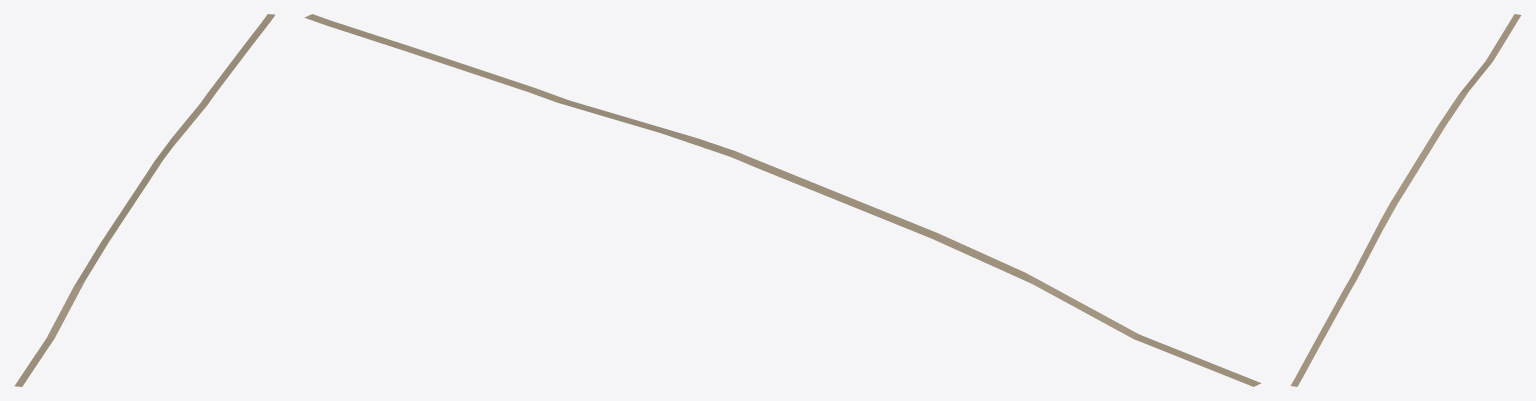
File: farm_-12_-19_track.glb
The picture shows the model from 3 angles, left to right: view 1: azimuth 90°, elevation 25°; view 2: azimuth 150°, elevation 25°; view 3: azimuth 270°, elevation 25°; orthographic projection. The views are drawn at different scales.
Visible parts, largest first — view 1: geometry_0; view 2: geometry_0; view 3: geometry_0.
Part boxes in pixels (<box>): geometry_0: <box>14,14,275,386</box>; geometry_0: <box>304,14,1261,386</box>; geometry_0: <box>1290,14,1521,386</box>.
Size of the model in its own units: 378 by 14.93 by 105.
